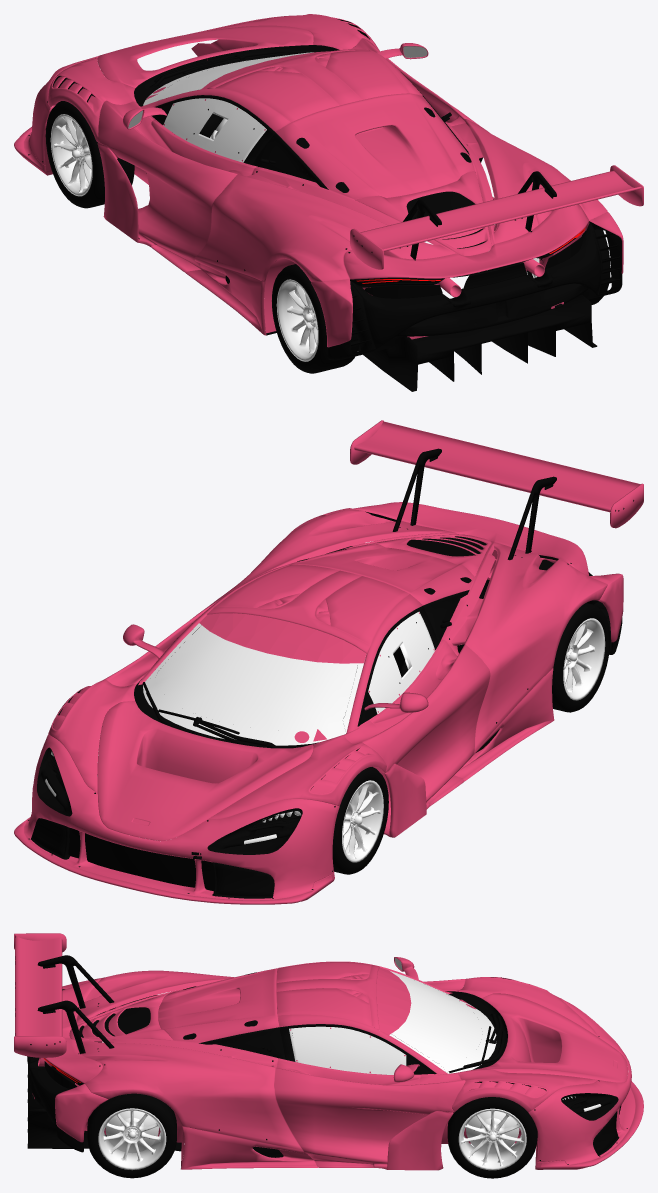
The picture shows the model from 3 angles, top to bottom: view 1: azimuth 30°, elevation 25°; view 2: azimuth 150°, elevation 25°; view 3: azimuth 270°, elevation 25°; orthographic projection. The views are drawn at different scales.
Visible parts, largest first — view 1: body, wheel-front-left, wheel-back-left, wheel-back-right; view 2: body, wheel-back-left, wheel-front-left; view 3: body, wheel-back-right, wheel-front-right.
Part boxes in pixels (<box>): body: <box>14,14,643,391</box>; wheel-front-left: <box>45,101,134,208</box>; wheel-back-left: <box>272,264,359,373</box>; wheel-back-right: <box>526,229,610,304</box>; body: <box>14,420,643,904</box>; wheel-back-left: <box>552,603,610,712</box>; wheel-front-left: <box>332,767,388,874</box>; body: <box>14,933,643,1170</box>; wheel-back-right: <box>87,1093,176,1178</box>; wheel-front-right: <box>447,1097,537,1178</box>.
Size of the model in its own units: 2.07 by 1.17 by 4.64.
